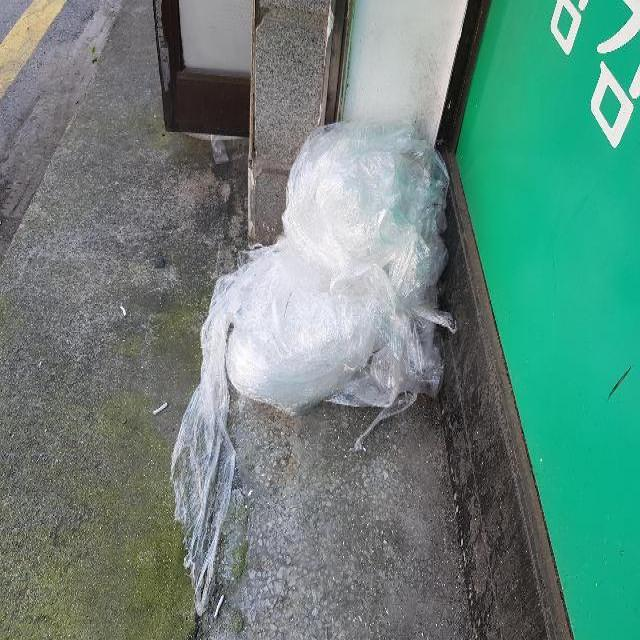plastic bag: (206, 114, 454, 424)
